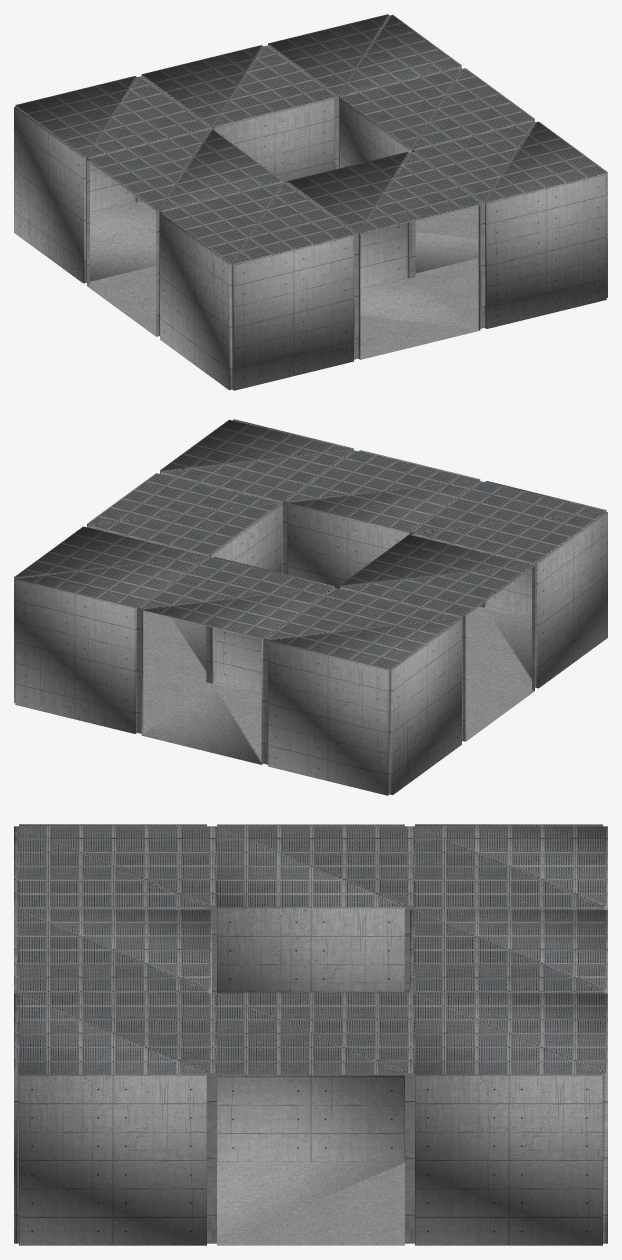
File: Roundabout.fbx
3 views of the same model, one above another, from view 1: azimuth 30°, elevation 25°; view 2: azimuth 150°, elevation 25°; view 3: azimuth 270°, elevation 25° (orthographic). The views are drawn at different scales.
Visible parts, largest first — view 1: Room.007; view 2: Room.007; view 3: Room.007.
Boxes of the visible parts, <box> form: Room.007: <box>14,14,607,390</box>; Room.007: <box>14,419,607,795</box>; Room.007: <box>14,824,607,1245</box>.
Size of the model in its own units: 600 by 190 by 600.
